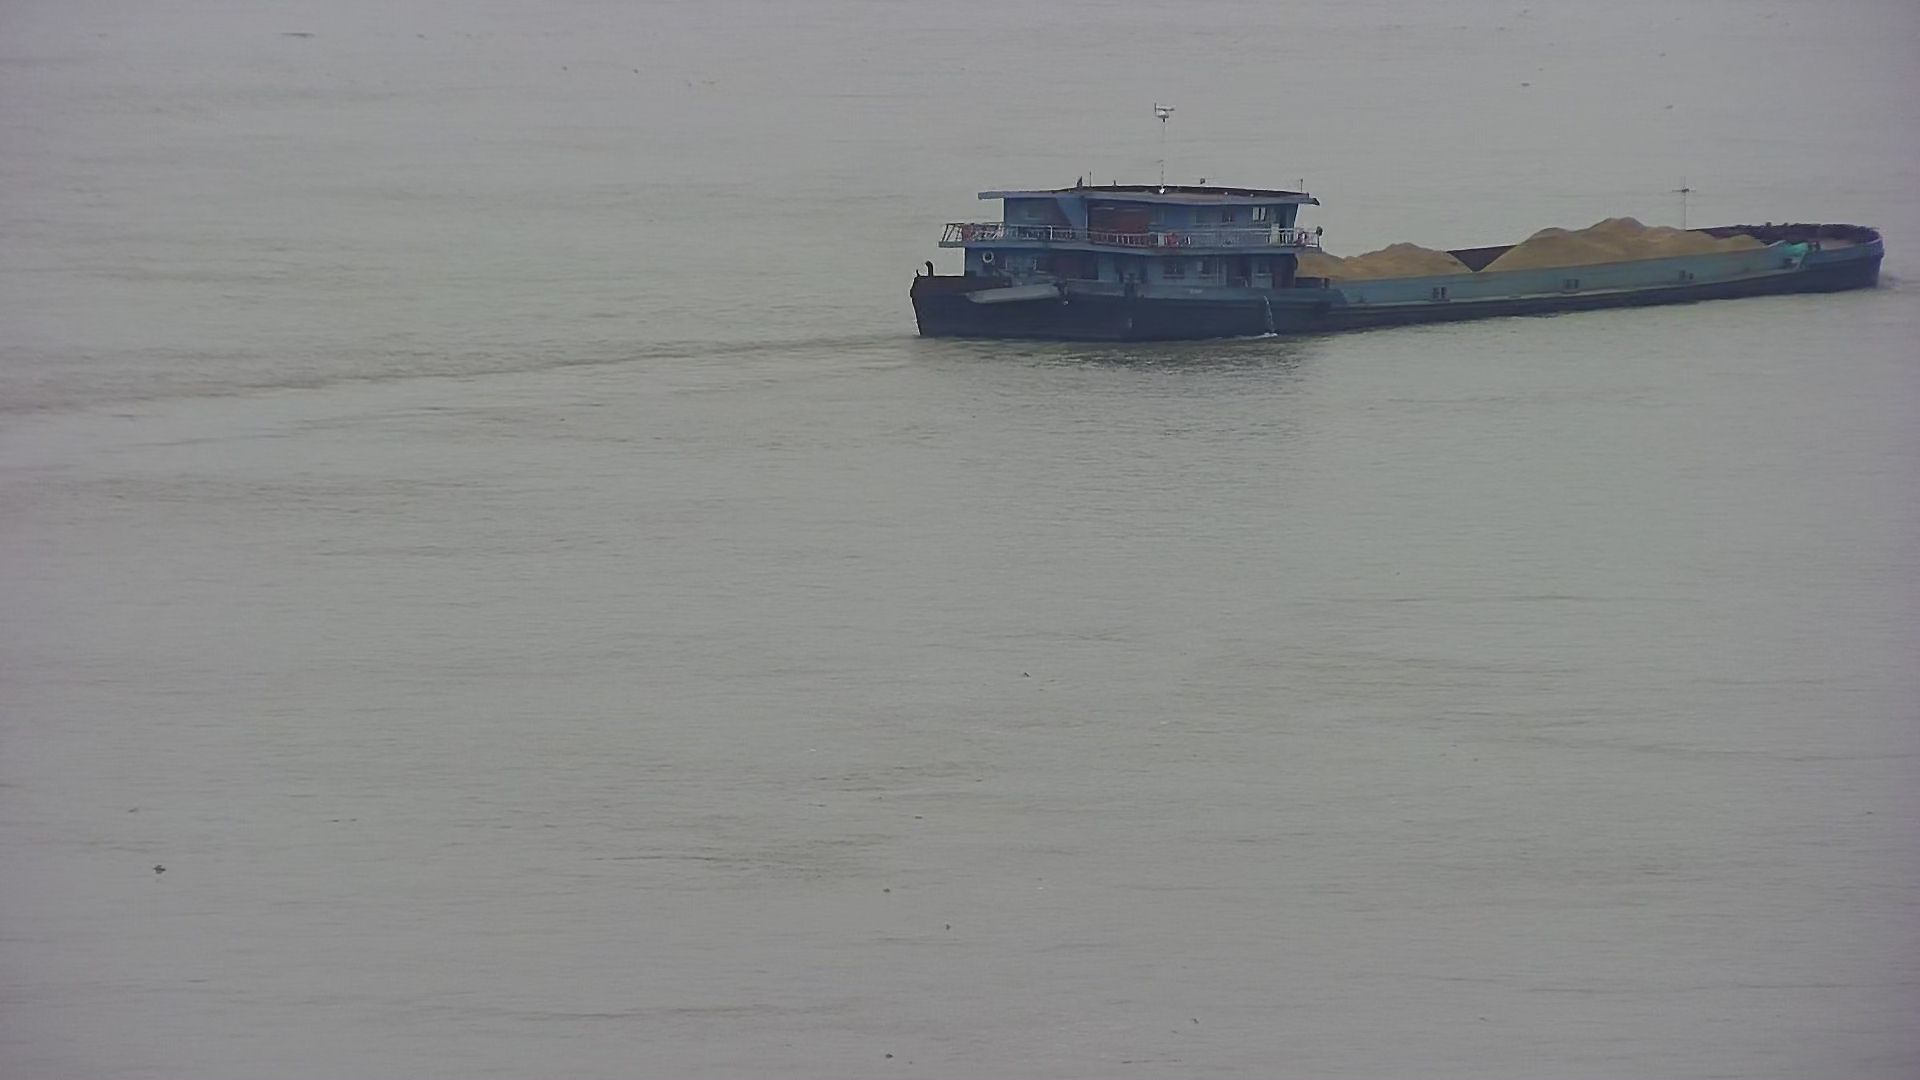ship: (877, 156, 1903, 363)
